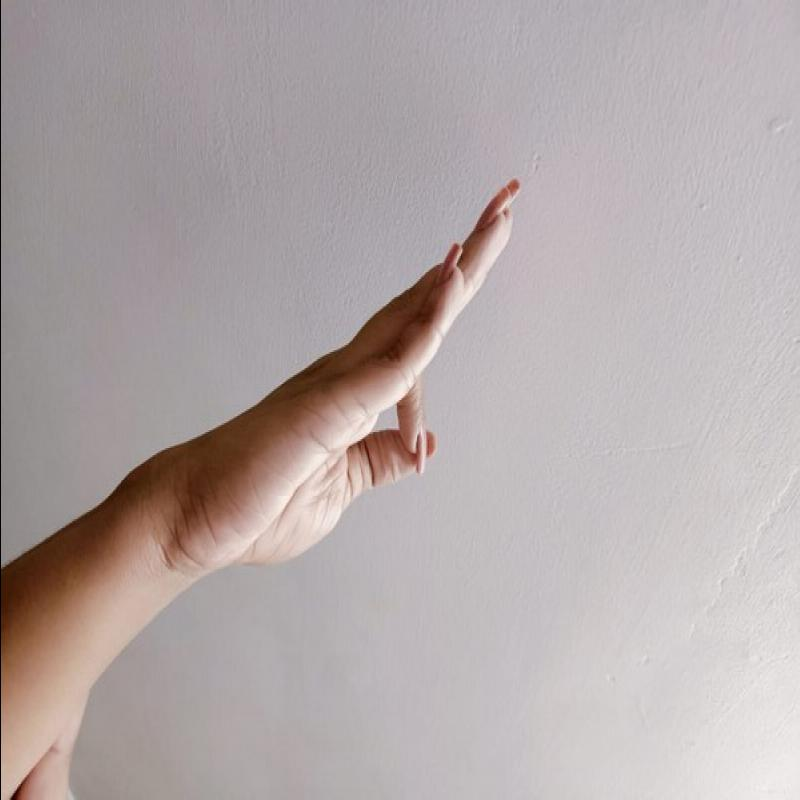Mudraakhyam: (171, 167, 553, 585)
